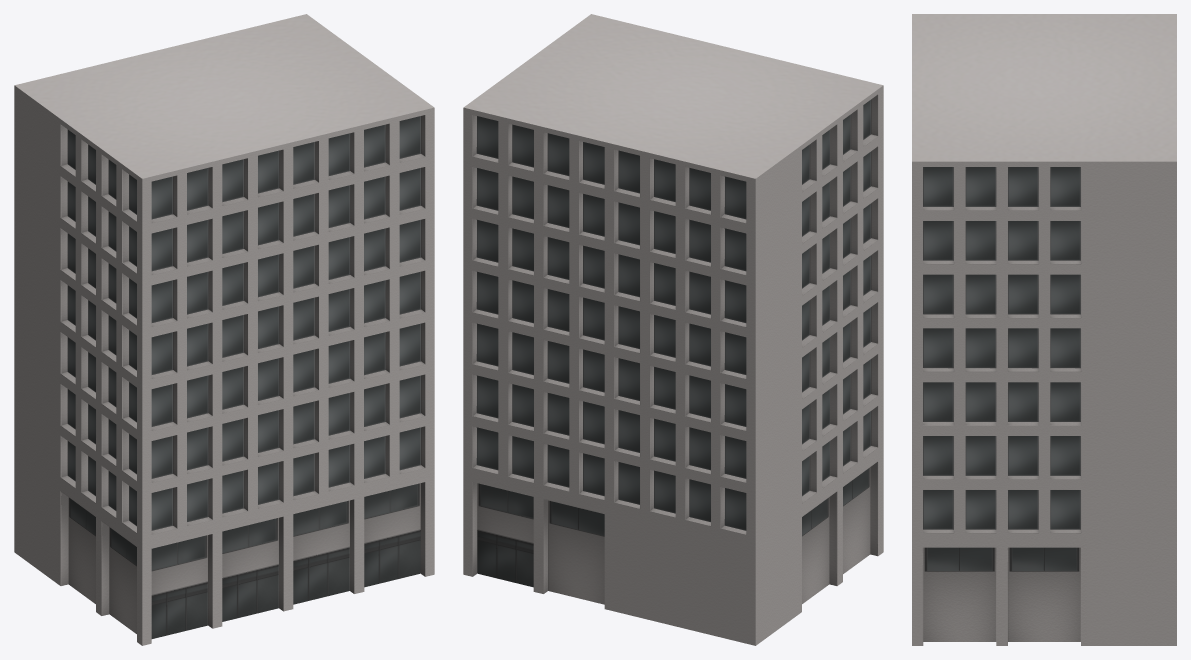
Rendered from BgMD_goto_Building_02_01.fbx.
3 views of the same model, side by side, from view 1: azimuth 30°, elevation 25°; view 2: azimuth 150°, elevation 25°; view 3: azimuth 270°, elevation 25° (orthographic). The views are drawn at different scales.
Parts seen in each view (by area): view 1: BgMD_goto_Building_02_01; view 2: BgMD_goto_Building_02_01; view 3: BgMD_goto_Building_02_01.
Part boxes in pixels (bbox=[...]): BgMD_goto_Building_02_01: bbox=[14, 14, 434, 645]; BgMD_goto_Building_02_01: bbox=[463, 14, 883, 645]; BgMD_goto_Building_02_01: bbox=[912, 14, 1176, 645].
Bounding box in the file's own units: 2681 × 4095 × 2031.
Materials: 1 (1 with a texture image).
